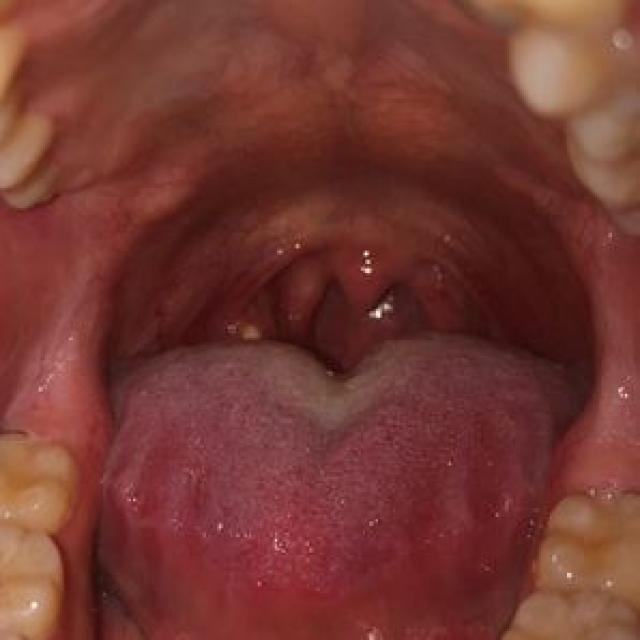Non Pharyngitis: (203, 168, 517, 351)
